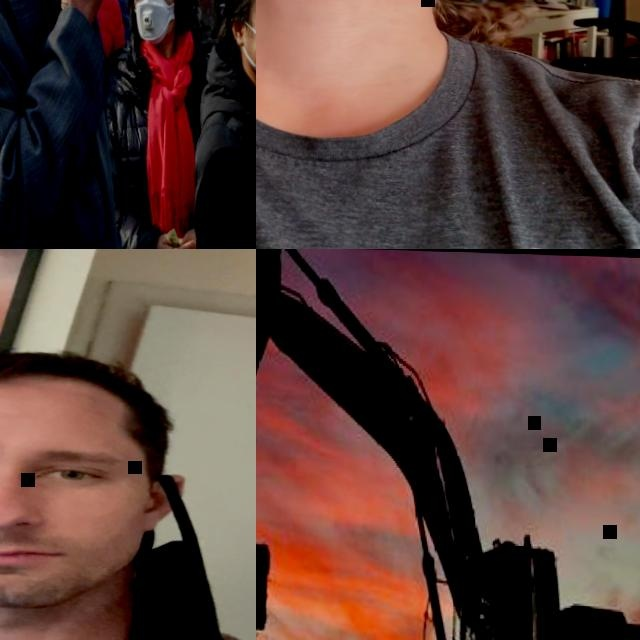Mask: (132, 0, 172, 45)
NO-Hardhat: (0, 349, 185, 424)
NO-Mask: (0, 492, 176, 608)
NO-Safety Vest: (256, 16, 640, 249), (0, 0, 140, 249), (114, 36, 221, 249), (204, 96, 256, 249)
Person: (256, 0, 640, 249), (0, 340, 256, 640)
machinery: (256, 249, 640, 640)
